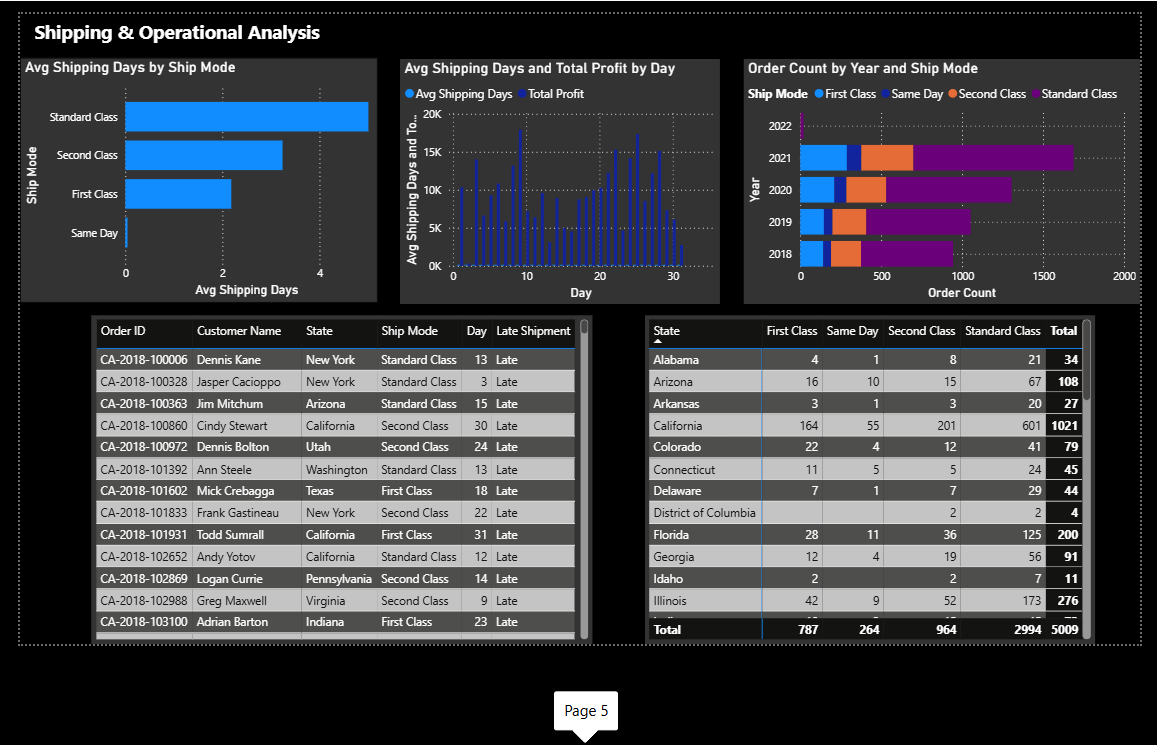

The page's visual inventory and layout, read from the dashboard file:
{"tool":"powerbi","page":{"name":"Page 5","canvas":[1280,720],"ordinal":4},"visuals":[{"type":"barChart","fields":{"Y":["measure_.Avg Shipping Days"],"Category":["E-Commerce.Ship Mode"]},"box":[0,51.4,408.6,280],"z":0},{"type":"clusteredColumnChart","fields":{"Category":["E-Commerce.Ship Date.Variation.Date Hierarchy.Day"],"Y":["measure_.Avg Shipping Days","measure_.Total Profit"]},"box":[434.3,51.4,365.7,280],"z":1000},{"type":"barChart","fields":{"Category":["E-Commerce.Ship Date.Variation.Date Hierarchy.Year","E-Commerce.Ship Date.Variation.Date Hierarchy.Month"],"Series":["E-Commerce.Ship Mode"],"Y":["measure_.Order Count"]},"box":[827.1,51.4,452.9,280],"z":2000},{"type":"tableEx","fields":{"Values":["E-Commerce.Order ID","E-Commerce.Customer Name","E-Commerce.State","E-Commerce.Ship Mode","E-Commerce.Ship Date.Variation.Date Hierarchy.Day","E-Commerce.Late Shipment"]},"box":[81.4,344.3,572.9,375.7],"z":3000},{"type":"pivotTable","fields":{"Rows":["E-Commerce.State"],"Columns":["E-Commerce.Ship Mode"],"Values":["measure_.Order Count"]},"box":[714.3,344.3,514.3,375.7],"z":4000},{"type":"textbox","box":[11.4,0,397.1,44.3],"z":5000}]}

Visuals, with their boxes on the page's 1280x720 design canvas (x1, y1, x2, y2). These are canvas units, not pixel positions in the 1157x745 screenshot, which may show the page scaled, cropped or inside an application window:
barChart - measure_.Avg Shipping Days x E-Commerce.Ship Mode: crop(0, 51, 409, 331)
clusteredColumnChart - E-Commerce.Ship Date.Variation.Date Hierarchy.Day x measure_.Avg Shipping Days: crop(434, 51, 800, 331)
barChart - E-Commerce.Ship Date.Variation.Date Hierarchy.Year x E-Commerce.Ship Date.Variation.Date Hierarchy.Month: crop(827, 51, 1280, 331)
tableEx - E-Commerce.Order ID x E-Commerce.Customer Name: crop(81, 344, 654, 720)
pivotTable - E-Commerce.State x E-Commerce.Ship Mode: crop(714, 344, 1229, 720)
textbox: crop(11, 0, 408, 44)
